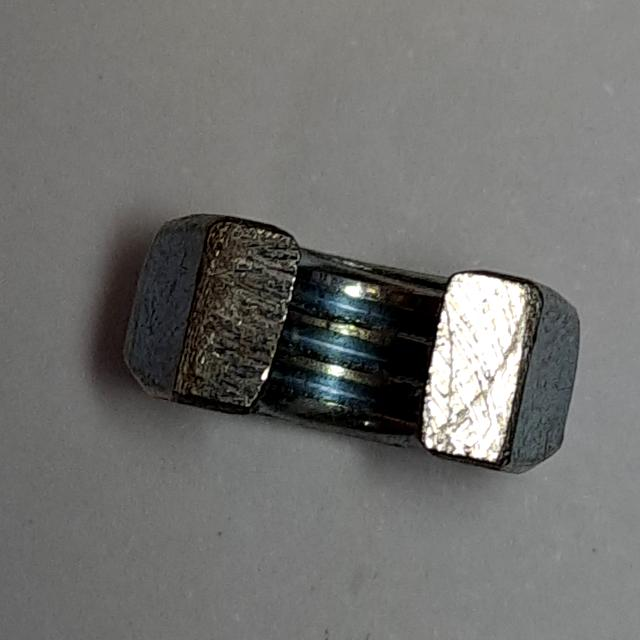Side-Fracture: (111, 192, 589, 502)
